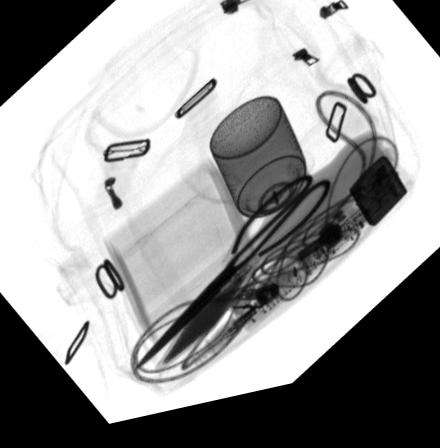Lighter: (348, 174, 405, 241)
Powerbank: (154, 278, 251, 371)
Scissors: (133, 188, 329, 373)
Sprayer: (209, 107, 305, 231)
